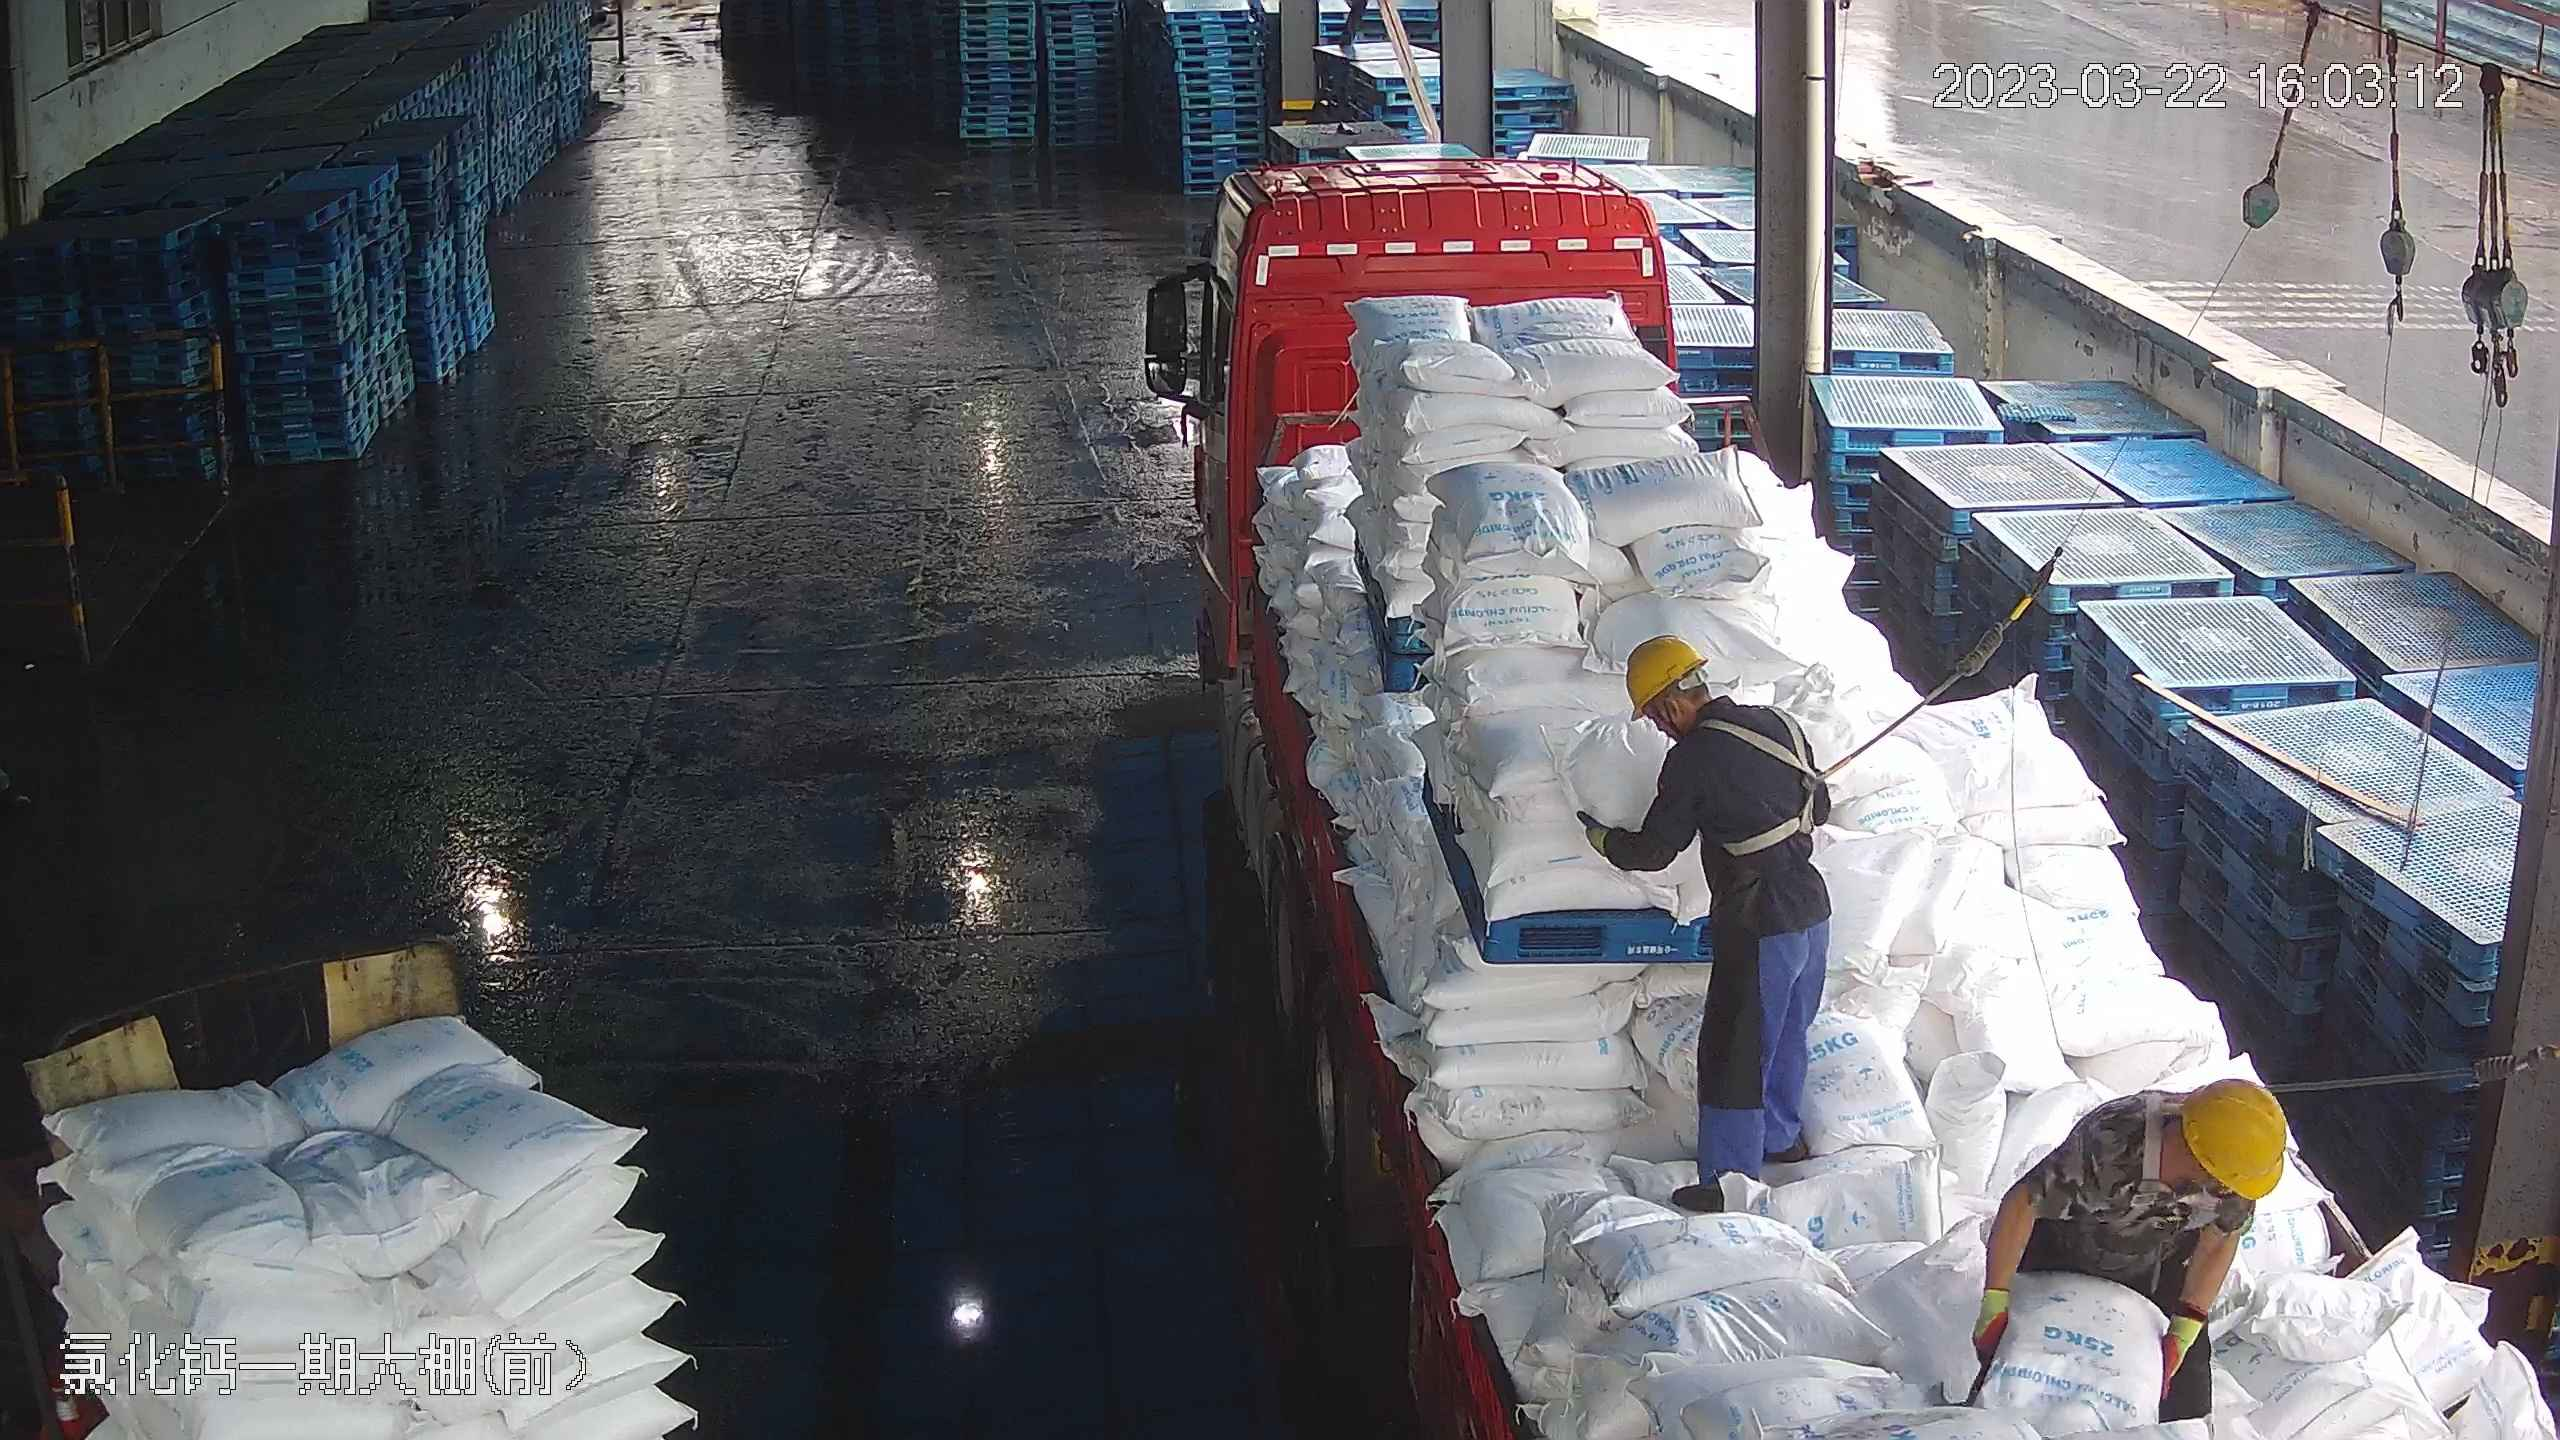belt: (1703, 695, 1843, 854), (2128, 1073, 2224, 1237)
head: (2077, 1079, 2285, 1253), (1621, 629, 1810, 803)
helmet: (2181, 1076, 2288, 1200), (1622, 629, 1710, 715)
people: (1580, 627, 1837, 1216), (1975, 1077, 2278, 1421)
truck: (1153, 138, 2533, 1432)
